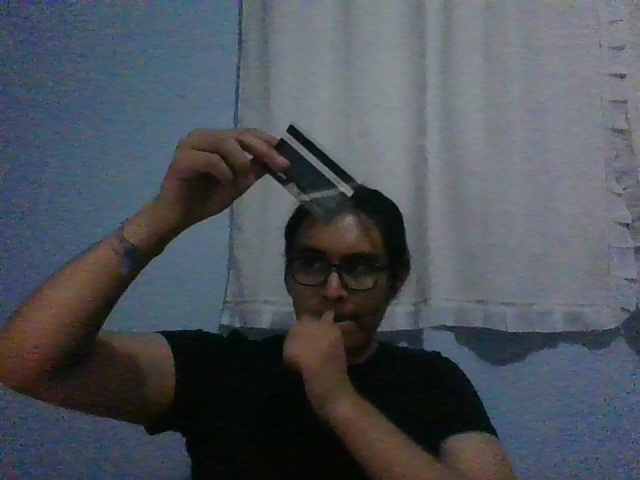tarjeta: (262, 122, 362, 225)
